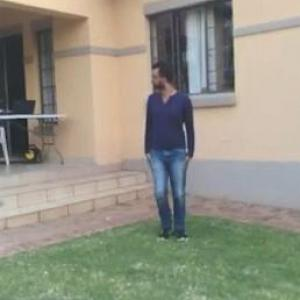follow: (136, 51, 197, 254)
